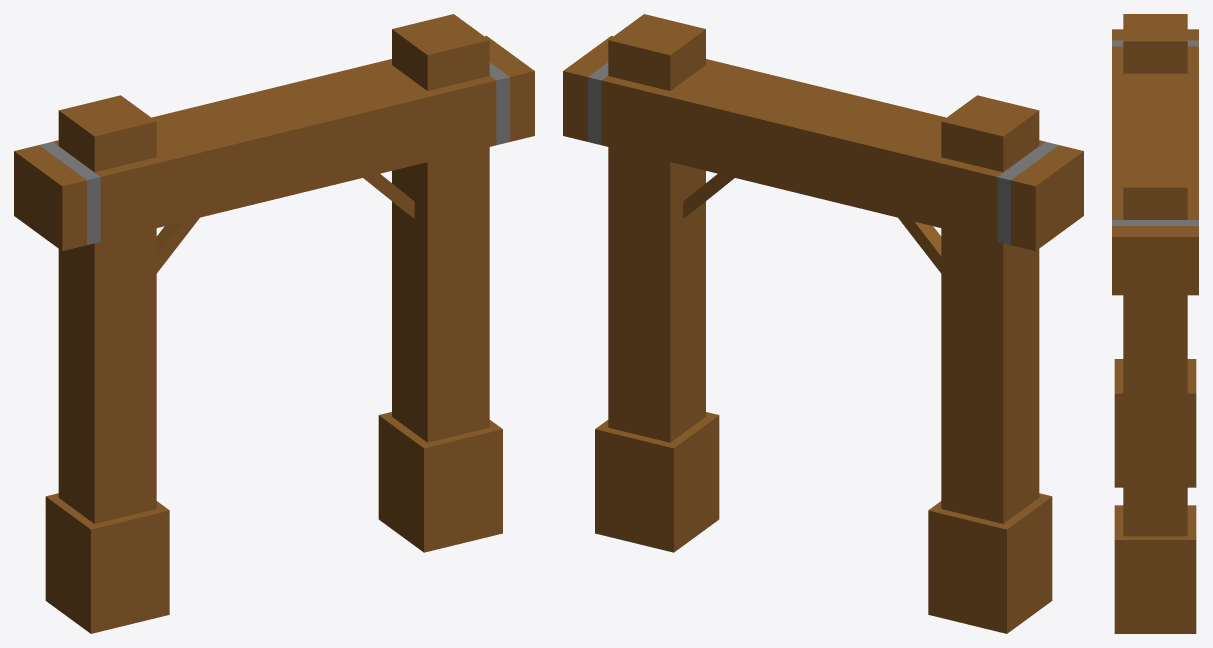
The model's file is Arco de madeira Sustentação.fbx.
3 views of the same model, side by side, from view 1: azimuth 30°, elevation 25°; view 2: azimuth 150°, elevation 25°; view 3: azimuth 270°, elevation 25° (orthographic). The views are drawn at different scales.
Parts seen in each view (by area): view 1: Cube.009; view 2: Cube.009; view 3: Cube.009.
Part boxes in pixels (x1=…): Cube.009: x1=14, y1=14, x2=534, y2=633; Cube.009: x1=563, y1=14, x2=1083, y2=633; Cube.009: x1=1112, y1=14, x2=1198, y2=633.
Bounding box in the file's own units: 410 × 408 × 72.51.
